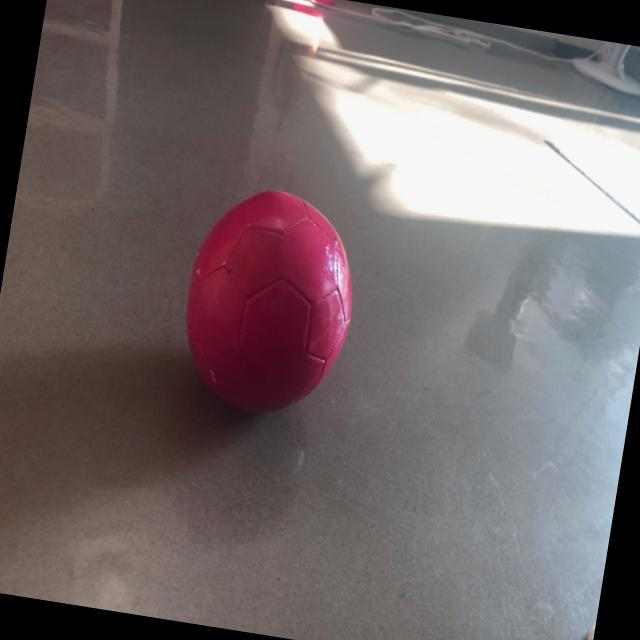red_ball: (171, 180, 369, 426)
